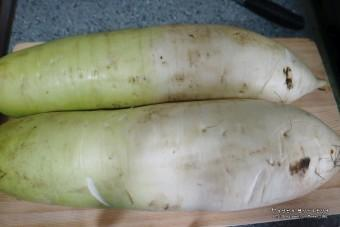radish: (0, 37, 181, 74), (0, 8, 172, 42)
